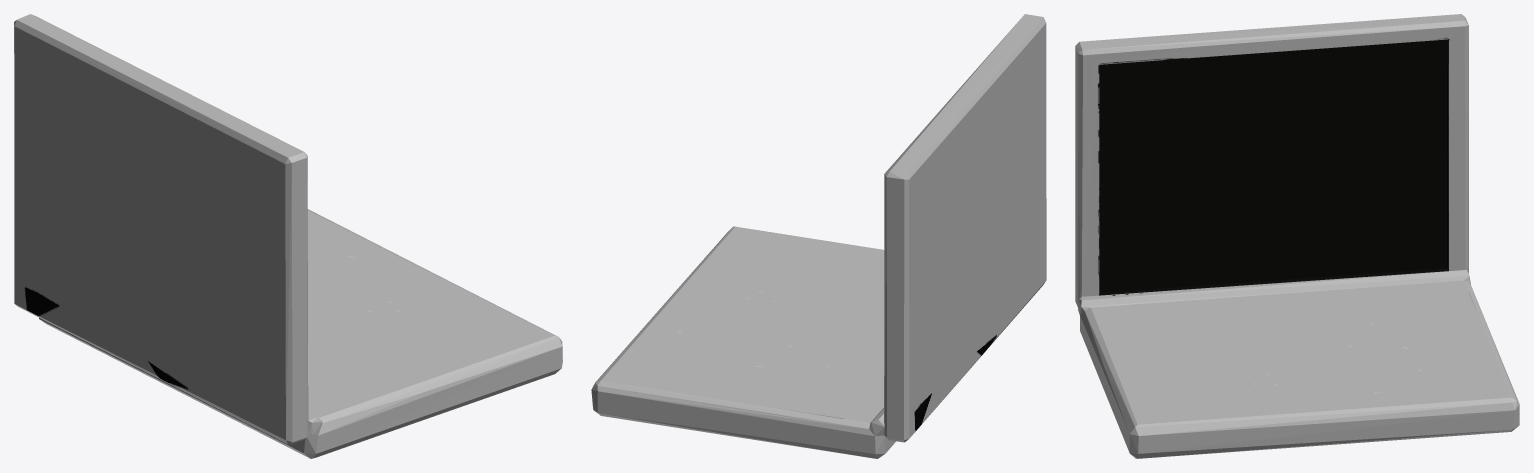
The model's file is notebook.glb.
The picture shows the model from 3 angles, left to right: view 1: azimuth 30°, elevation 25°; view 2: azimuth 150°, elevation 25°; view 3: azimuth 270°, elevation 25°; orthographic projection. The views are drawn at different scales.
Parts seen in each view (by area): view 1: 282297_23_05_24_17_32_28_1; view 2: 282297_23_05_24_17_32_28_1; view 3: 282297_23_05_24_17_32_28_1.
Boxes of the visible parts, x1,y1,x2,y2 form: 282297_23_05_24_17_32_28_1: (14, 14, 562, 458); 282297_23_05_24_17_32_28_1: (591, 14, 1046, 458); 282297_23_05_24_17_32_28_1: (1075, 14, 1519, 458).
Bounding box in the file's own units: 2.24 × 1.8 × 2.54.
1 material, 1 textured.
